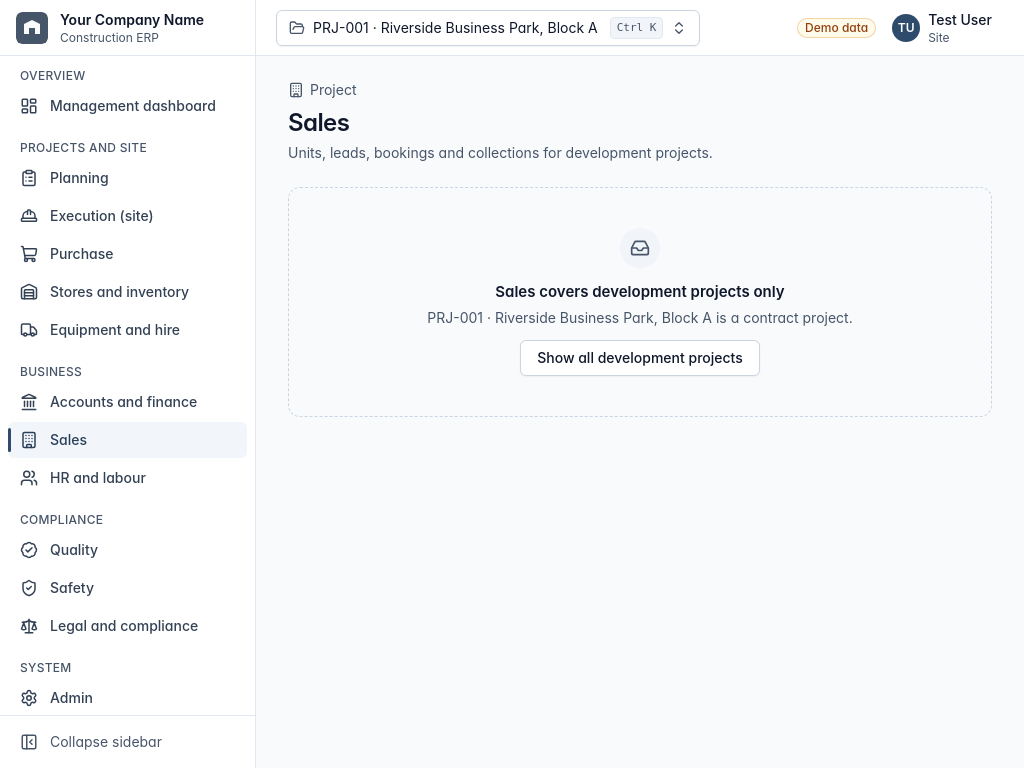
Test: project switcher › a contract project opened in Sales explains why there is nothing to show
Check: the heading "Sales covers development projects only" is shown, box x1=495 y1=282 x2=785 y2=301
Step 1. Click the button "Show all development projects" → (640, 358), box x1=520 y1=340 x2=760 y2=376
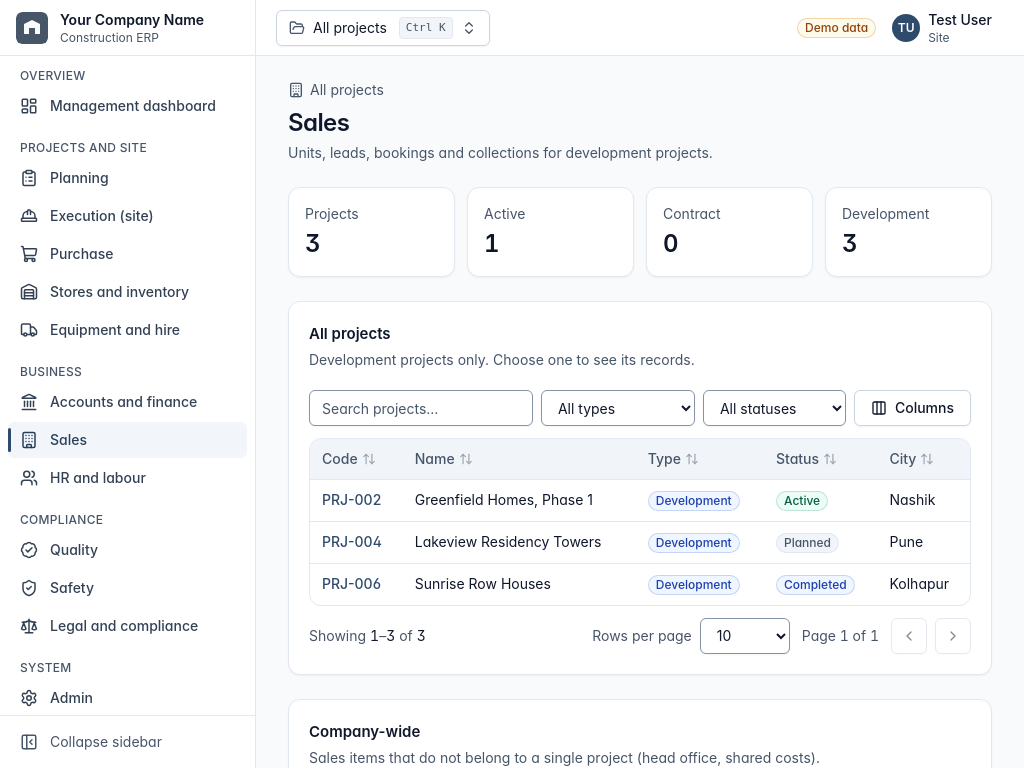
Check: the table named "Projects" is shown, box x1=310 y1=439 x2=970 y2=604
